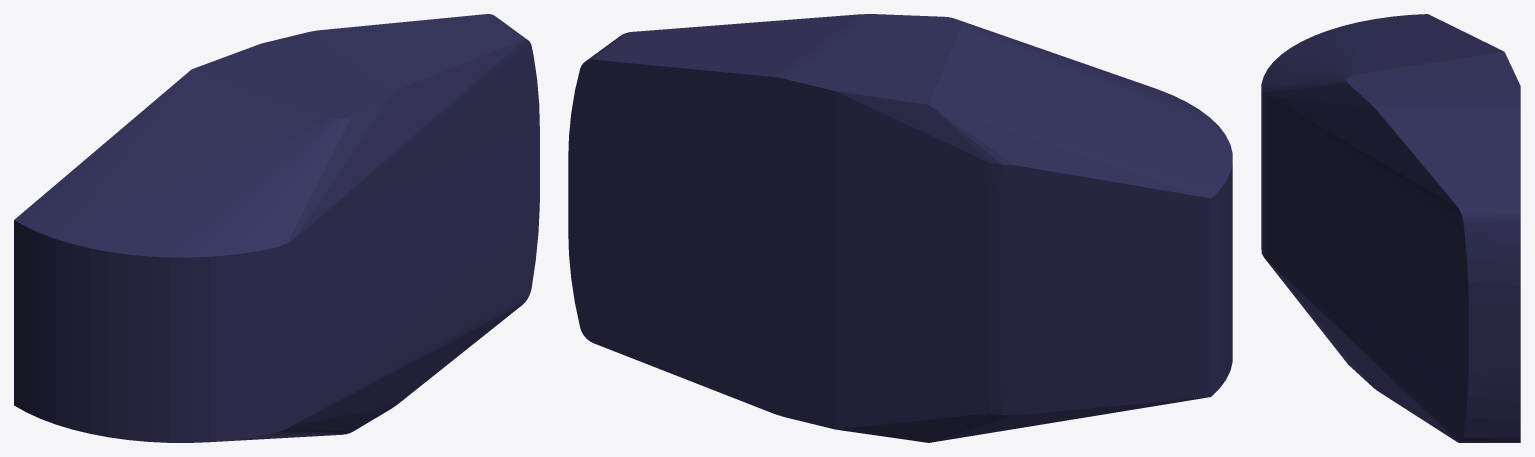
3 views of the same model, side by side, from view 1: azimuth 30°, elevation 25°; view 2: azimuth 150°, elevation 25°; view 3: azimuth 270°, elevation 25° (orthographic). The views are drawn at different scales.
Visible parts, largest first — view 1: link_3; view 2: link_3; view 3: link_3.
Part boxes in pixels (<box>): link_3: <box>14,14,539,442</box>; link_3: <box>568,14,1232,442</box>; link_3: <box>1261,14,1520,442</box>.
Size of the model in its own units: 0.0558 by 0.0257 by 0.0307.
